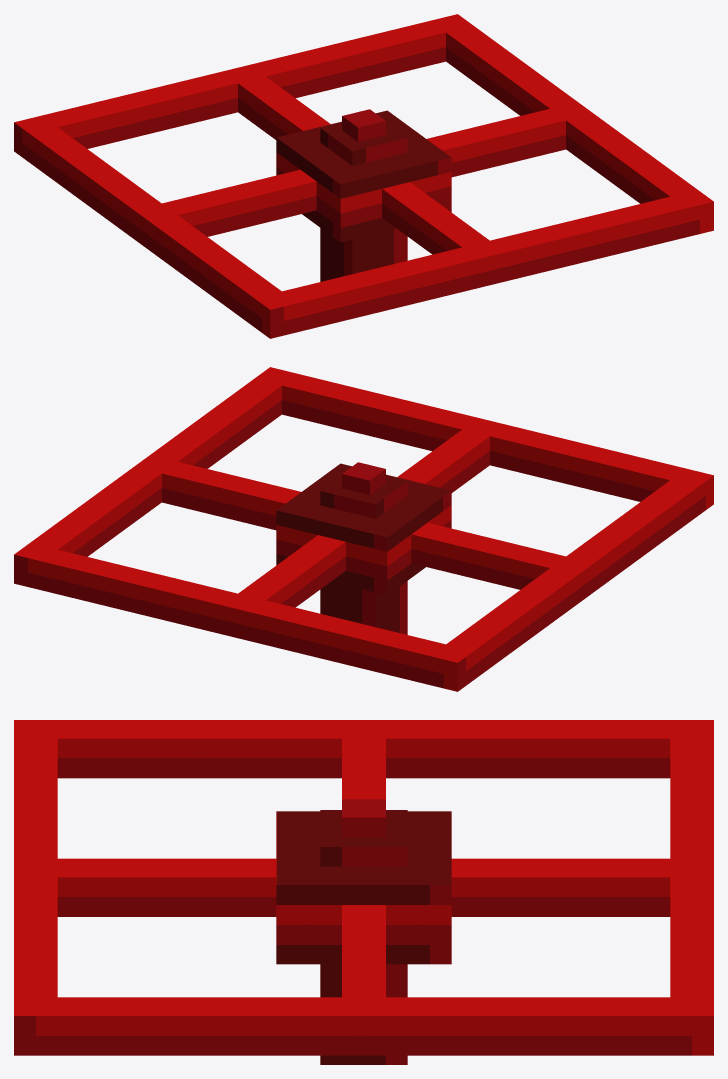
File: lava_valveao.fezao.glb
The picture shows the model from 3 angles, top to bottom: view 1: azimuth 30°, elevation 25°; view 2: azimuth 150°, elevation 25°; view 3: azimuth 270°, elevation 25°; orthographic projection. The views are drawn at different scales.
Parts seen in each view (by area): view 1: LAVA_VALVEAO; view 2: LAVA_VALVEAO; view 3: LAVA_VALVEAO.
Part boxes in pixels (bbox=[...]): LAVA_VALVEAO: bbox=[14, 14, 713, 338]; LAVA_VALVEAO: bbox=[14, 367, 713, 691]; LAVA_VALVEAO: bbox=[14, 720, 713, 1064].
Bounding box in the file's own units: 2 × 0.75 × 2.
Materials: 1 (1 with a texture image).
